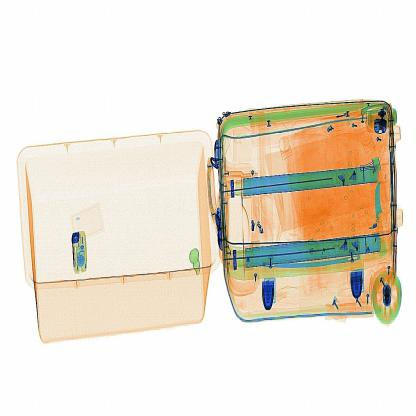wrench: (369, 169, 388, 259)
